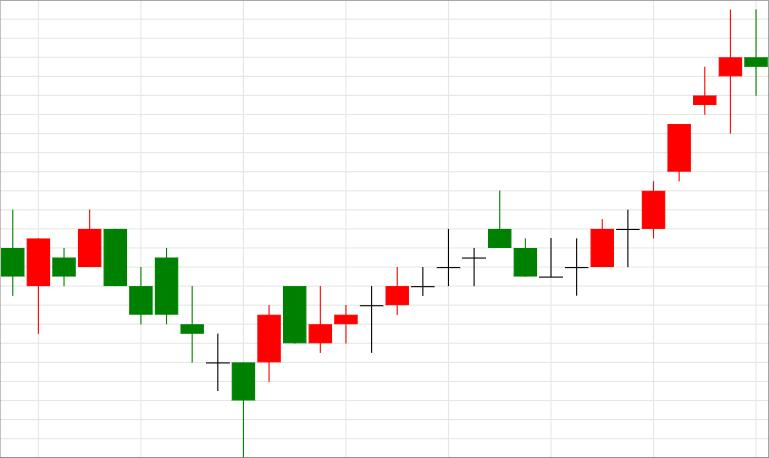hammer_rise: (104, 229, 255, 457)
